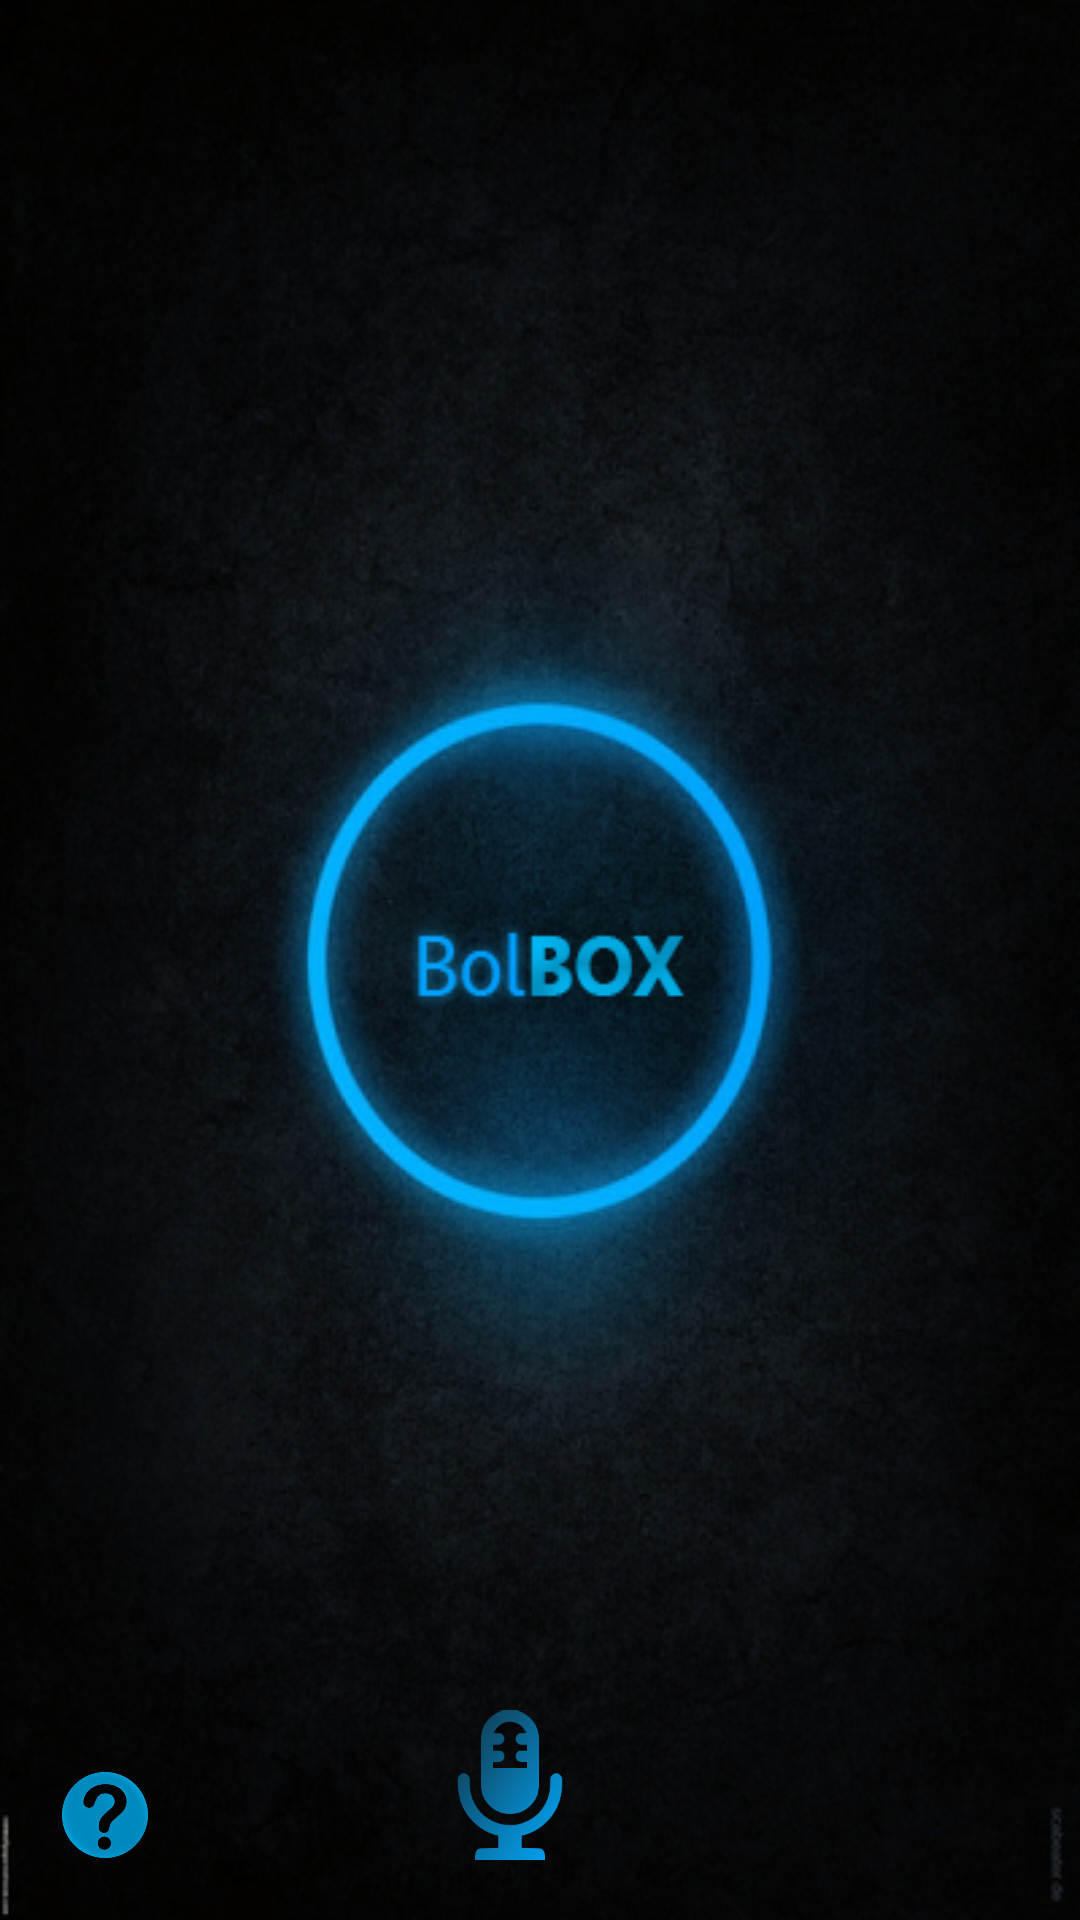

Locate icon controls on the screen. Image size 1080x1920, boxes as [x1,y1,x2,y2].
helpicon: [62,1772,148,1858]
micbol: [458,1710,563,1860]
